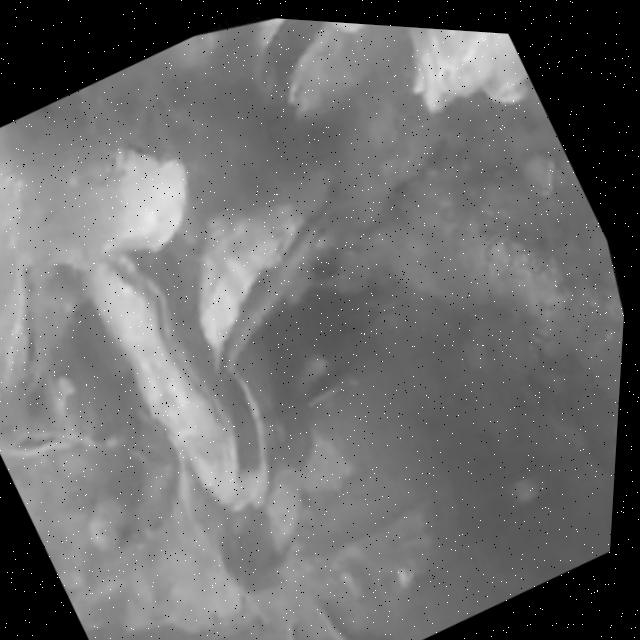Oyster-Indeterminate: (46, 140, 192, 267), (391, 26, 533, 118)
Oyster-Open: (81, 254, 281, 518), (198, 195, 350, 385), (242, 18, 410, 135), (2, 428, 147, 502), (0, 270, 77, 395)
